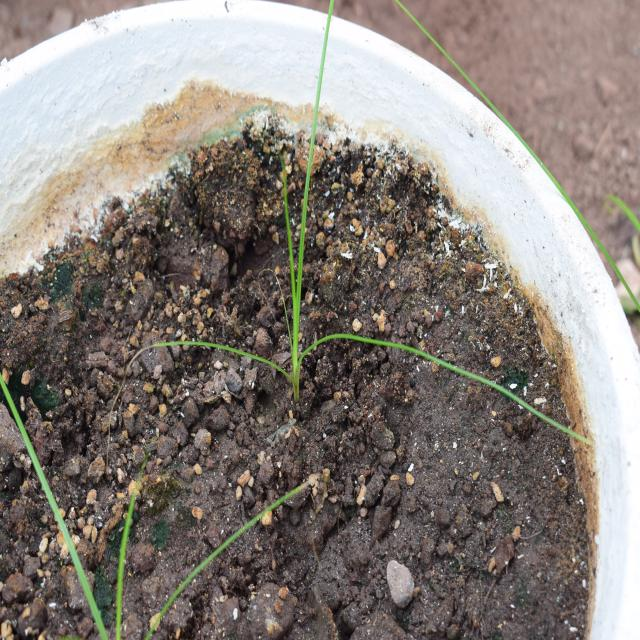sedge: (186, 68, 501, 430)
